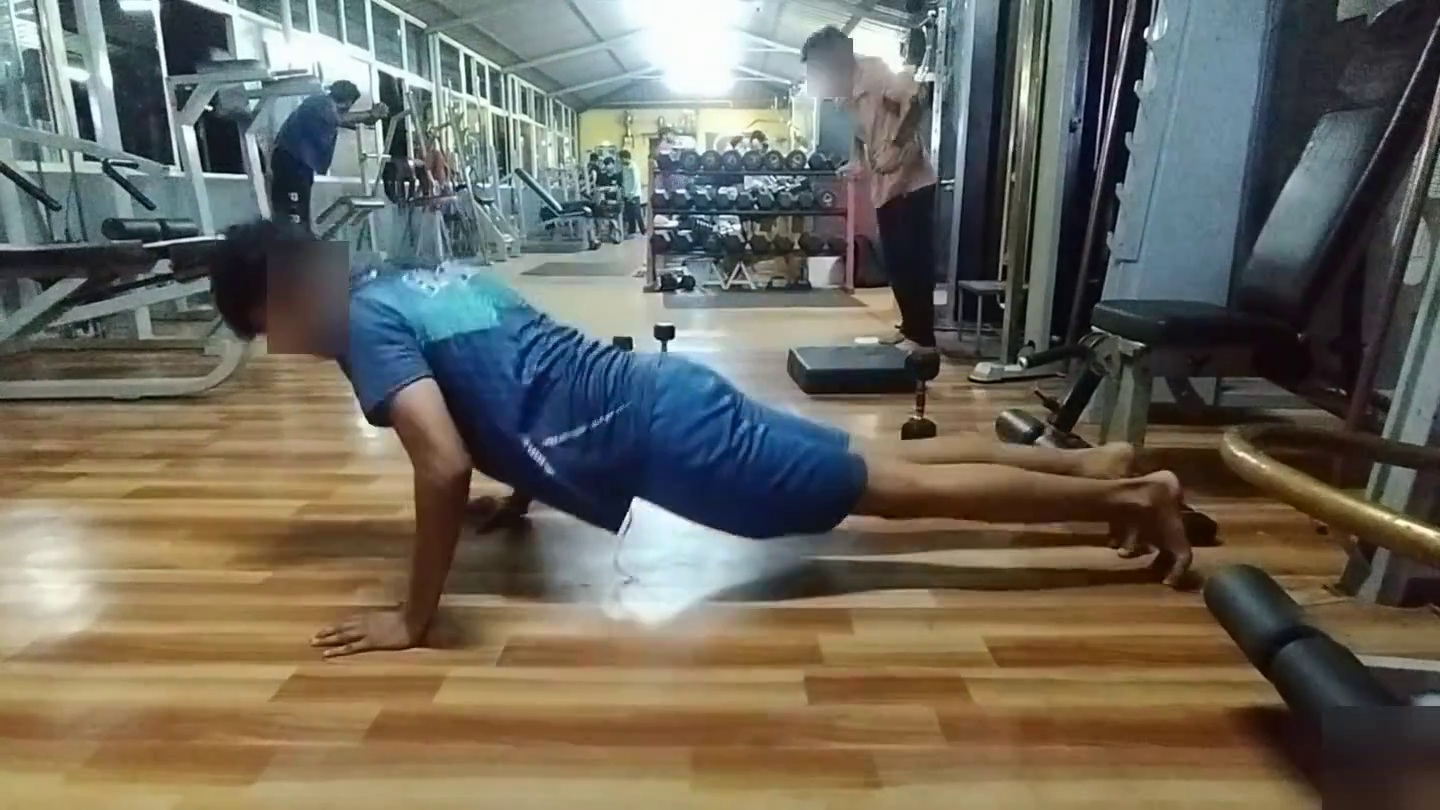push_up: (177, 221, 1232, 734)
